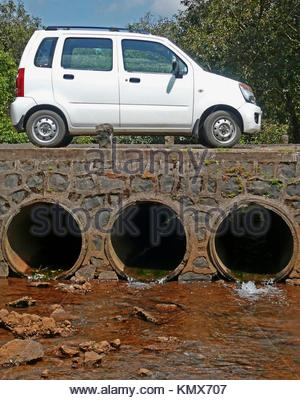car: (12, 25, 262, 149)
